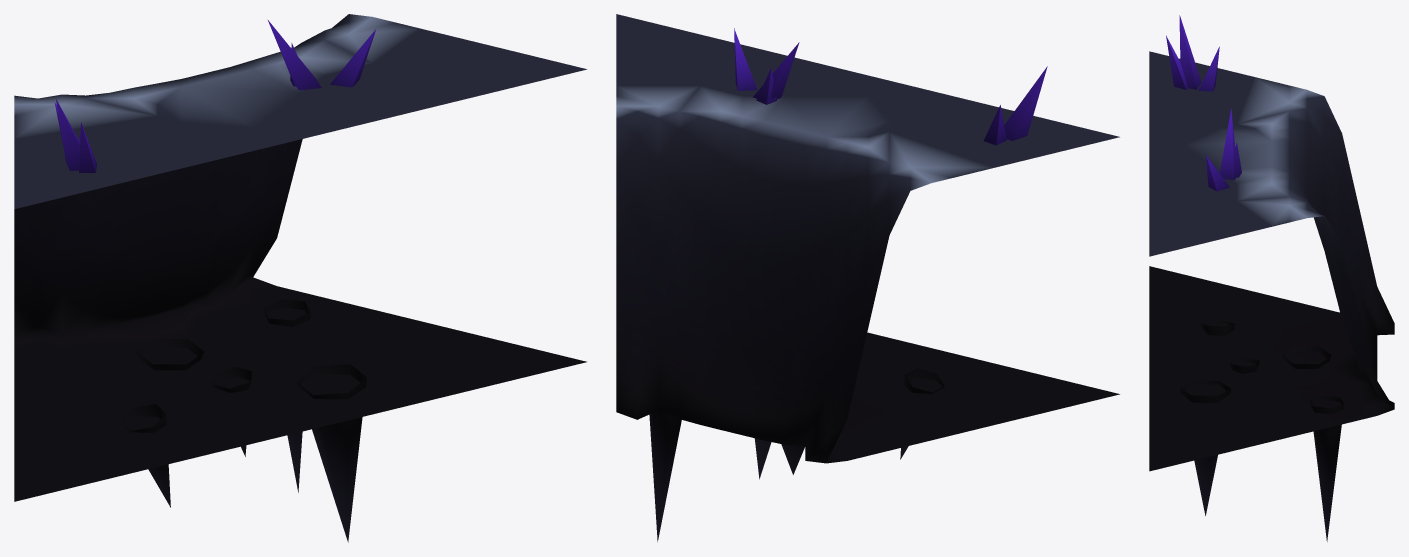
Rendered from MODULE_HOLLOW_LINE_SHORT.fbx.
3 views of the same model, side by side, from view 1: azimuth 30°, elevation 25°; view 2: azimuth 150°, elevation 25°; view 3: azimuth 270°, elevation 25° (orthographic). The views are drawn at different scales.
Parts seen in each view (by area): view 1: MODULE_HOLLOW_LINE_SHORT__export, MODULE_HOLLOW_LINE_SHORT_DECOR__export; view 2: MODULE_HOLLOW_LINE_SHORT__export, MODULE_HOLLOW_LINE_SHORT_DECOR__export; view 3: MODULE_HOLLOW_LINE_SHORT__export, MODULE_HOLLOW_LINE_SHORT_DECOR__export.
Part boxes in pixels (x1,y1,x2,y2): MODULE_HOLLOW_LINE_SHORT__export: (14, 14, 586, 501); MODULE_HOLLOW_LINE_SHORT_DECOR__export: (54, 20, 375, 542); MODULE_HOLLOW_LINE_SHORT__export: (616, 14, 1119, 463); MODULE_HOLLOW_LINE_SHORT_DECOR__export: (649, 28, 1047, 541); MODULE_HOLLOW_LINE_SHORT__export: (1149, 51, 1394, 471); MODULE_HOLLOW_LINE_SHORT_DECOR__export: (1166, 15, 1344, 541).
Size of the model in its own units: 100 by 92.14 by 50.52.
